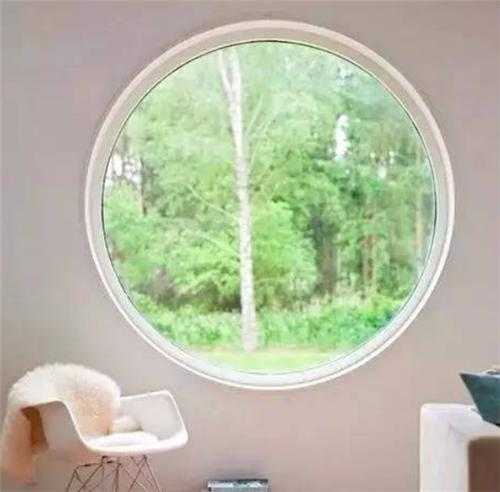ImgView: (1, 1, 499, 491)
